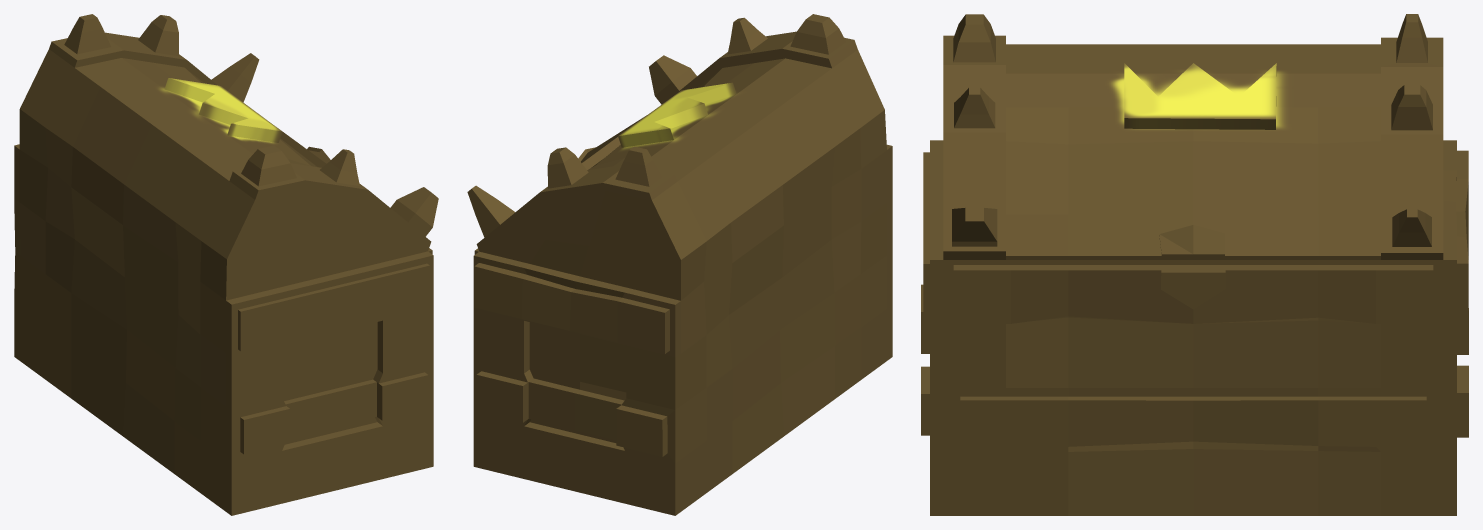
The model's file is Cofre.fbx.
The picture shows the model from 3 angles, left to right: view 1: azimuth 30°, elevation 25°; view 2: azimuth 150°, elevation 25°; view 3: azimuth 270°, elevation 25°; orthographic projection. The views are drawn at different scales.
Visible parts, largest first — view 1: Cube; view 2: Cube; view 3: Cube.
Boxes of the visible parts, left/top/right/bottom form: Cube: left=14, top=14, right=438, bottom=515; Cube: left=467, top=14, right=892, bottom=515; Cube: left=921, top=14, right=1468, bottom=515.
Size of the model in its own units: 546 by 790 by 952.
1 material, 1 textured.
